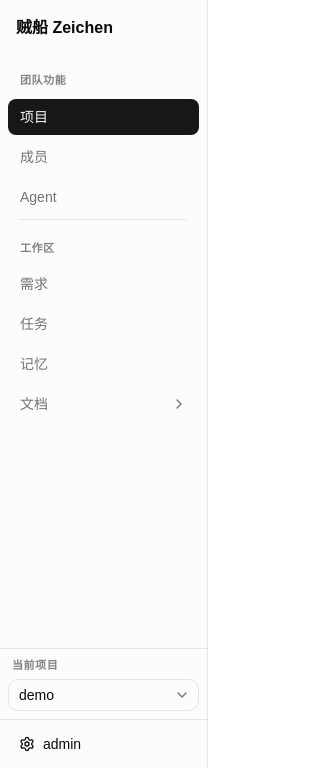
Test: AppShell 侧边栏 › 文档为可折叠父项，展开后显示 Wiki、词条与 API 子页
Check: the link "Wiki" is not shown
Click the button "文档" at (104, 404), box [8, 386, 199, 422]
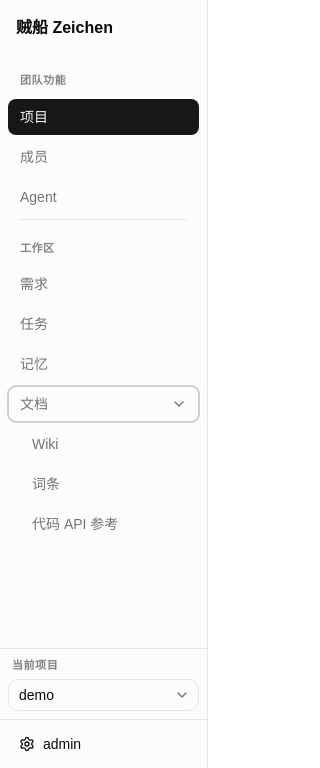
Check: the button "文档" is expanded, box [8, 386, 199, 422]
